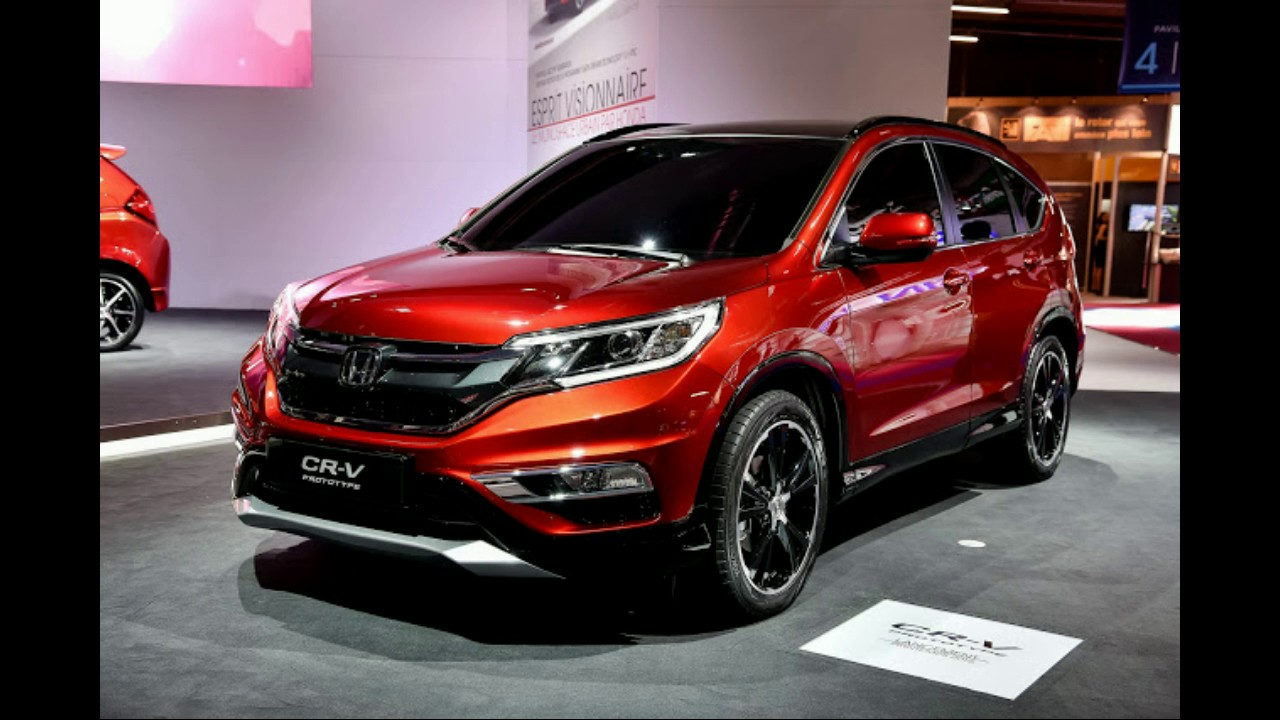crv: (225, 100, 1107, 611)
